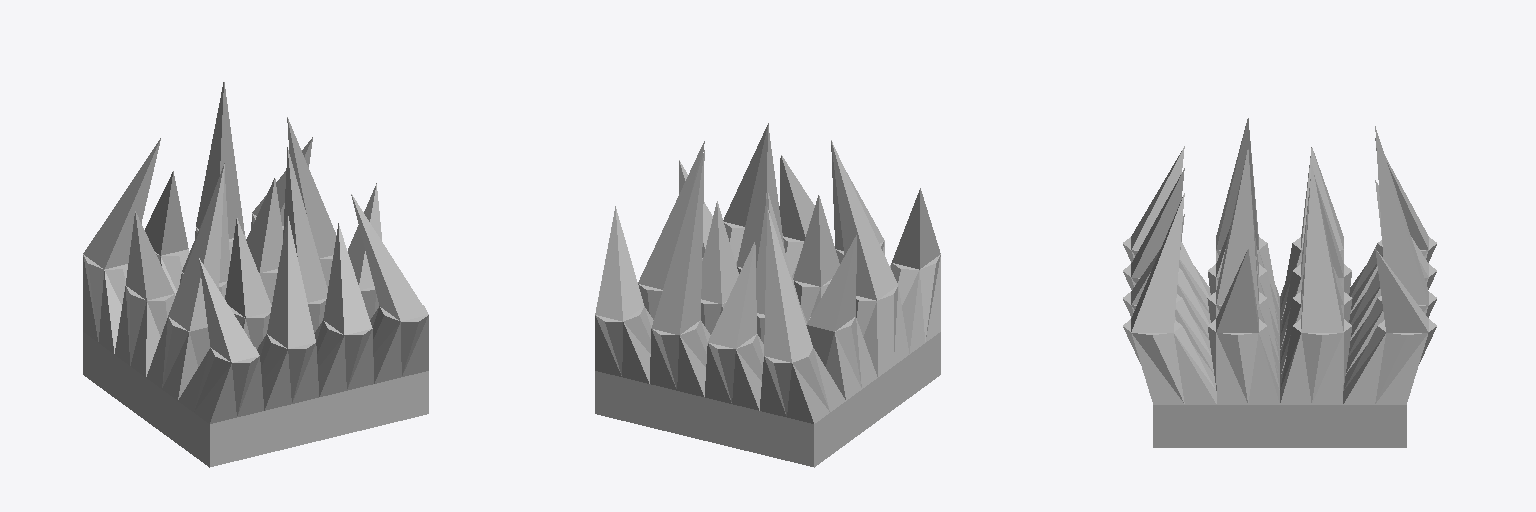
The model's file is spikes.obj.
3 renders of one model, left to right at view 1: azimuth 30°, elevation 25°; view 2: azimuth 150°, elevation 25°; view 3: azimuth 270°, elevation 25°, orthographic.
Parts seen in each view (by area): view 1: pCube1; view 2: pCube1; view 3: pCube1.
Boxes of the visible parts, <box> form: pCube1: <box>83,82,428,467</box>; pCube1: <box>595,123,940,467</box>; pCube1: <box>1123,118,1436,447</box>.
Size of the model in its own units: 1 by 1.2 by 1.24.